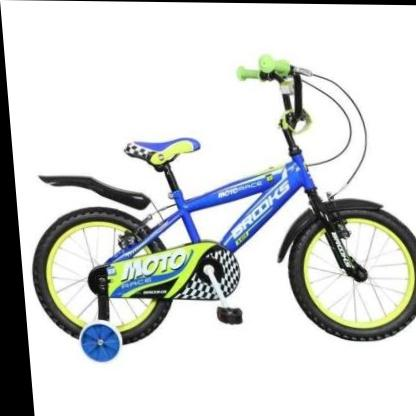Bicycle: (27, 40, 416, 381)
